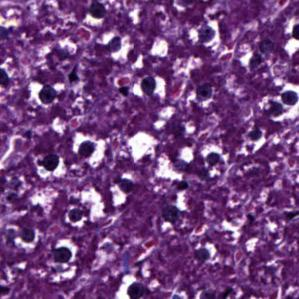inflammation: (52, 243, 76, 271), (37, 153, 66, 175), (85, 0, 111, 24), (74, 138, 97, 164), (136, 72, 161, 95), (35, 79, 58, 103), (120, 282, 149, 299), (160, 201, 182, 223)
